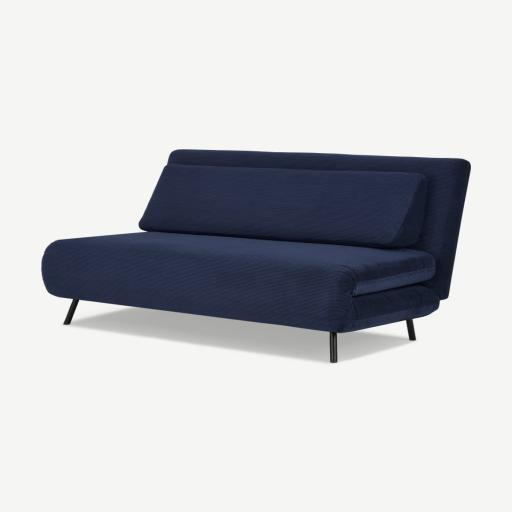back_cushion: (140, 163, 427, 248)
legs: (64, 300, 78, 325), (330, 332, 337, 363), (406, 319, 415, 340)
one-seater: (42, 150, 470, 363)
seat_cushion: (42, 232, 437, 332)
